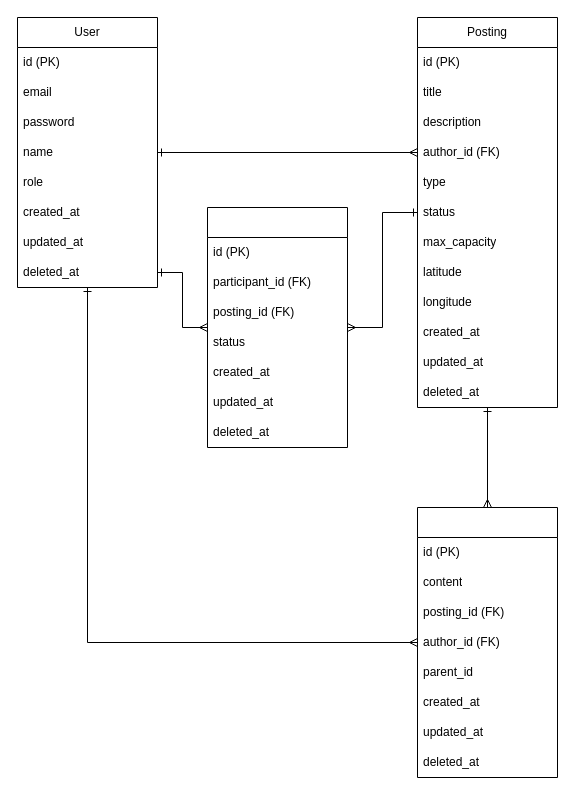
The diagram is 575 pixels wide and 795 high, and some of its shapes have lost their labels. Here are the shapes that lost their labels. From the top down, the box of each, then its label:
(206, 206, 348, 448): Participation
(416, 506, 558, 778): Comment
